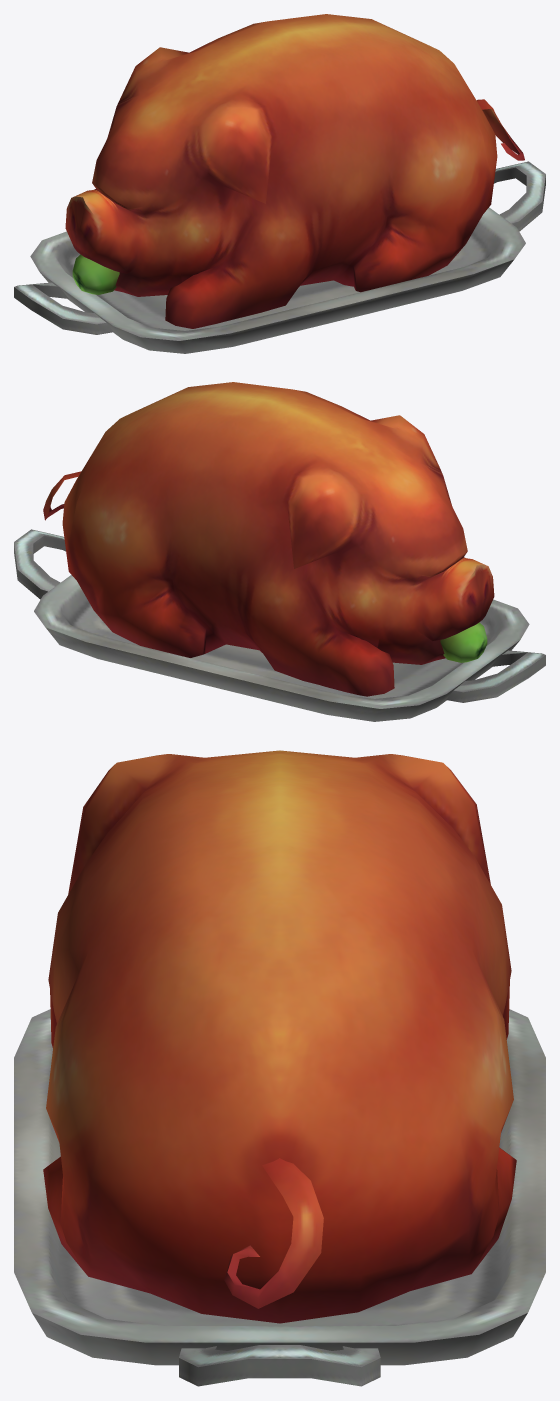
The model's file is Pig_02.fbx.
The picture shows the model from 3 angles, top to bottom: view 1: azimuth 30°, elevation 25°; view 2: azimuth 150°, elevation 25°; view 3: azimuth 270°, elevation 25°; orthographic projection. The views are drawn at different scales.
Parts seen in each view (by area): view 1: Pig_02; view 2: Pig_02; view 3: Pig_02.
Boxes of the visible parts, bbox=[...] form: Pig_02: bbox=[14, 14, 545, 353]; Pig_02: bbox=[14, 382, 545, 721]; Pig_02: bbox=[14, 750, 545, 1386].
Bounding box in the file's own units: 1.86 × 0.8047 × 0.9244.
